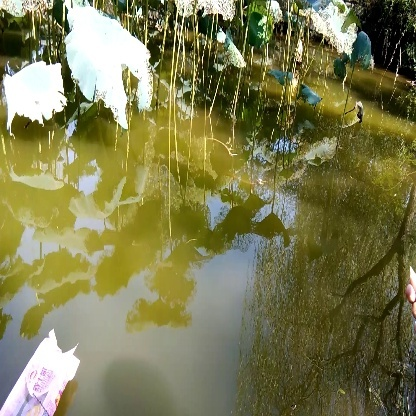plastic-bag: (2, 328, 82, 416)
